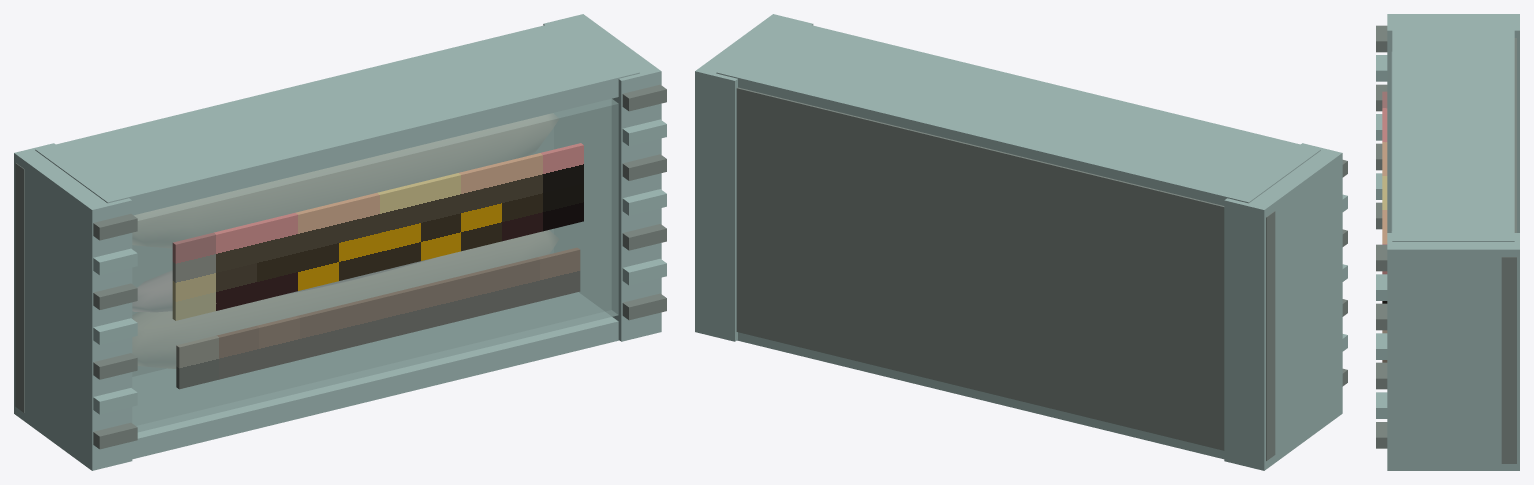
Rendered from CMU3DRMCFoodSnackHotdogPackagedExtraCloud.glb.
The picture shows the model from 3 angles, left to right: view 1: azimuth 30°, elevation 25°; view 2: azimuth 150°, elevation 25°; view 3: azimuth 270°, elevation 25°; orthographic projection. The views are drawn at different scales.
Parts seen in each view (by area): view 1: front cloudy transparent wrapping film, upper folded wrapping seam, original small yellow-black packaging band, lower folded wrapping seam, left thick folded heat-seal, original lower wrapping print, right thick folded heat-seal, enclosed hotdog bread half 2, enclosed hotdog bread half 1, sealed wrapper back, enclosed pink sausage, left individual crimp 4 (+13 smaller); view 2: sealed wrapper back, upper folded wrapping seam, left thick folded heat-seal, right thick folded heat-seal, lower folded wrapping seam; view 3: right thick folded heat-seal, upper folded wrapping seam, sealed wrapper back, left thick folded heat-seal, original small yellow-black packaging band, front cloudy transparent wrapping film, left individual crimp 7, right individual crimp 3, right individual crimp 5, right individual crimp 7, left individual crimp 6, right individual crimp 1 (+8 smaller).
Part boxes in pixels (box(x1,y1,x2,y2)): front cloudy transparent wrapping film: box(132, 98, 618, 432); upper folded wrapping seam: box(35, 19, 639, 215); original small yellow-black packaging band: box(172, 143, 583, 320); lower folded wrapping seam: box(132, 292, 619, 459); left thick folded heat-seal: box(14, 143, 132, 470); original lower wrapping print: box(176, 247, 580, 389); right thick folded heat-seal: box(543, 14, 661, 341); enclosed hotdog bread half 2: box(133, 113, 558, 247); enclosed hotdog bread half 1: box(133, 230, 558, 368); sealed wrapper back: box(15, 128, 553, 412); enclosed pink sausage: box(133, 260, 425, 311); left individual crimp 4: box(93, 318, 137, 344); sealed wrapper back: box(736, 87, 1275, 460); upper folded wrapping seam: box(716, 19, 1320, 205); left thick folded heat-seal: box(1224, 143, 1342, 470); right thick folded heat-seal: box(695, 14, 813, 341); lower folded wrapping seam: box(737, 332, 1224, 459); right thick folded heat-seal: box(1387, 233, 1519, 470); upper folded wrapping seam: box(1392, 20, 1514, 241); sealed wrapper back: box(1501, 38, 1516, 463); left thick folded heat-seal: box(1387, 14, 1519, 232); original small yellow-black packaging band: box(1382, 91, 1387, 303); front cloudy transparent wrapping film: box(1391, 52, 1392, 232); left individual crimp 7: box(1376, 25, 1387, 52); right individual crimp 3: box(1376, 362, 1387, 389); right individual crimp 5: box(1376, 303, 1387, 330); right individual crimp 7: box(1376, 244, 1387, 271); left individual crimp 6: box(1376, 55, 1387, 81); right individual crimp 1: box(1376, 422, 1387, 448).
Size of the model in its own units: 0.556 by 0.245 by 0.143.
8 materials, 2 textured.
